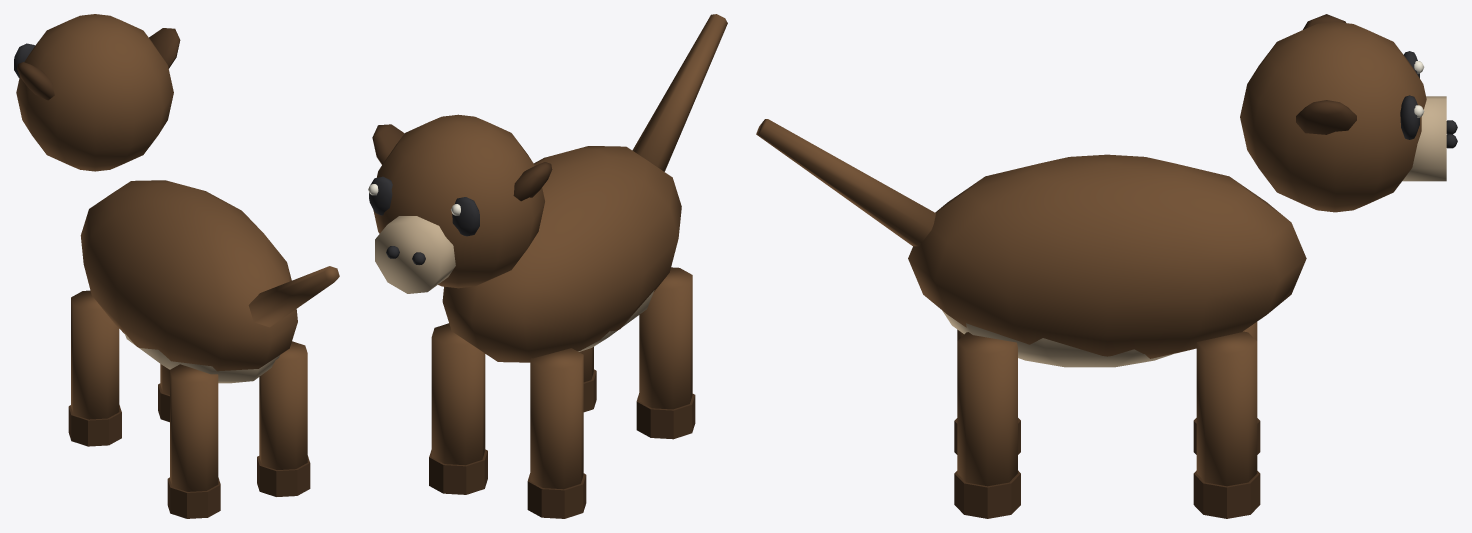
The model's file is dog.fbx.
3 renders of one model, left to right at view 1: azimuth 30°, elevation 25°; view 2: azimuth 150°, elevation 25°; view 3: azimuth 270°, elevation 25°, orthographic. The views are drawn at different scales.
Parts seen in each view (by area): view 1: Body, Head, LegL, ArmL, LegR, ArmR; view 2: Body, Head, ArmL, ArmR, LegL, LegR; view 3: Body, Head, ArmR, LegR.
Boxes of the visible parts, left/top/right/bottom form: Body: left=80, top=180, right=339, bottom=383; Head: left=14, top=14, right=180, bottom=171; LegL: left=167, top=364, right=220, bottom=518; ArmL: left=68, top=290, right=121, bottom=446; LegR: left=257, top=341, right=310, bottom=496; ArmR: left=158, top=364, right=169, bottom=422; Body: left=442, top=14, right=727, bottom=362; Head: left=368, top=114, right=552, bottom=293; ArmL: left=527, top=348, right=586, bottom=518; ArmR: left=429, top=323, right=487, bottom=494; LegL: left=636, top=267, right=695, bottom=439; LegR: left=579, top=347, right=596, bottom=412; Body: left=756, top=119, right=1306, bottom=367; Head: left=1240, top=14, right=1457, bottom=212; ArmR: left=1193, top=331, right=1260, bottom=518; LegR: left=954, top=332, right=1020, bottom=518.
Bounding box in the file's own units: 0.2496 × 0.8098 × 0.57.
